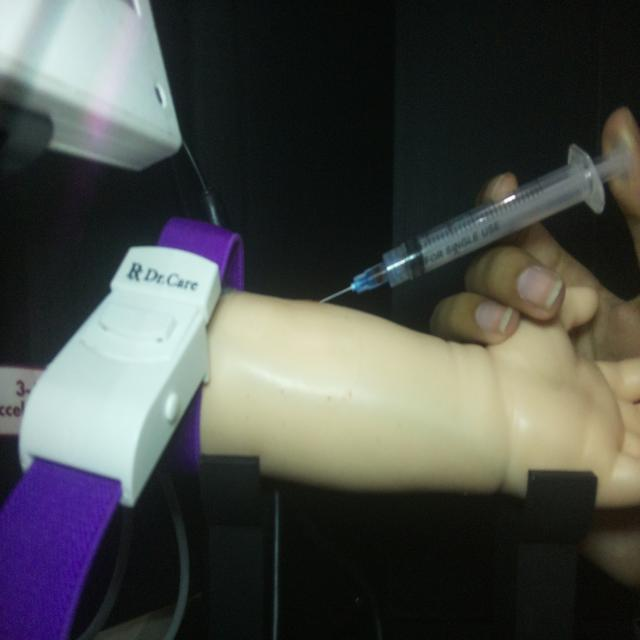15 degrees: (317, 110, 636, 307)
